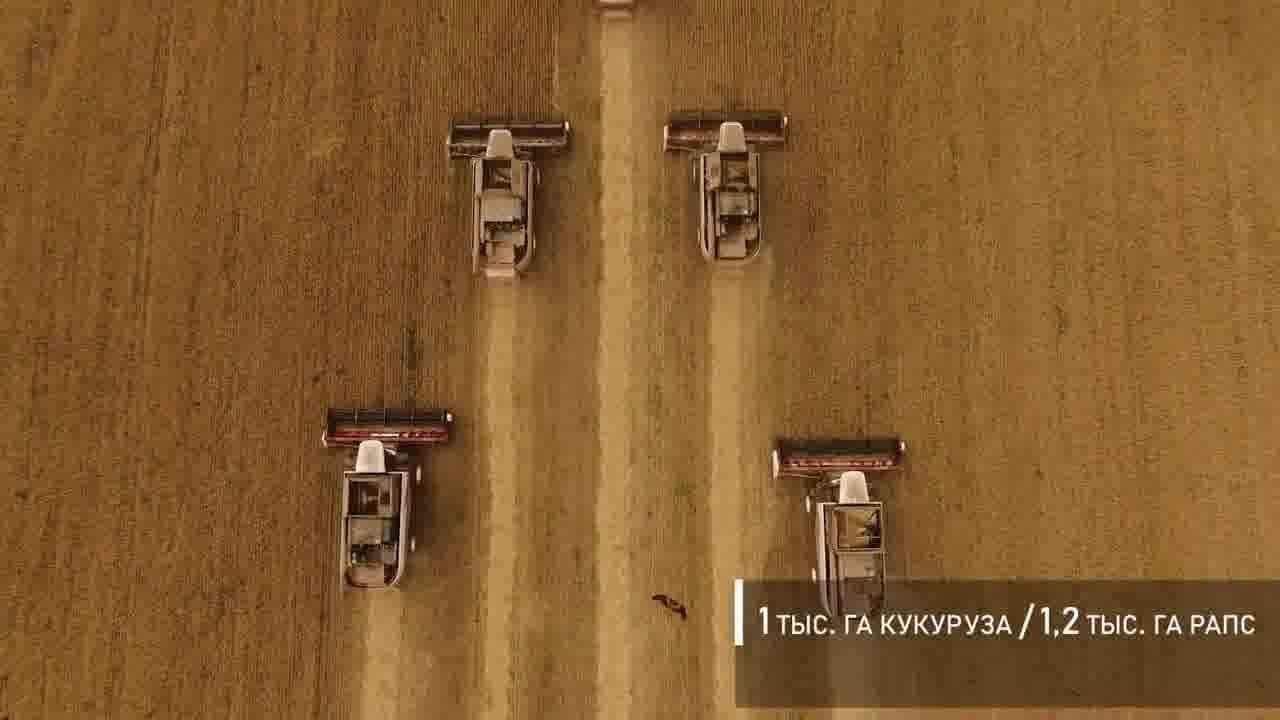combine harvester: (767, 432, 915, 627), (318, 399, 461, 597), (657, 105, 798, 276), (441, 114, 575, 293)
